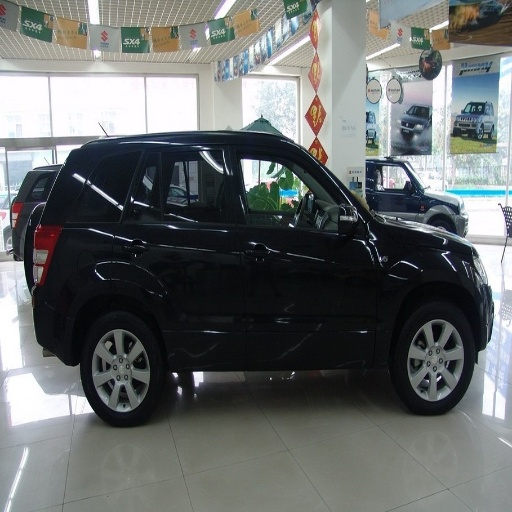back_right_door: (130, 142, 248, 356)
front_right_door: (234, 142, 377, 353)
